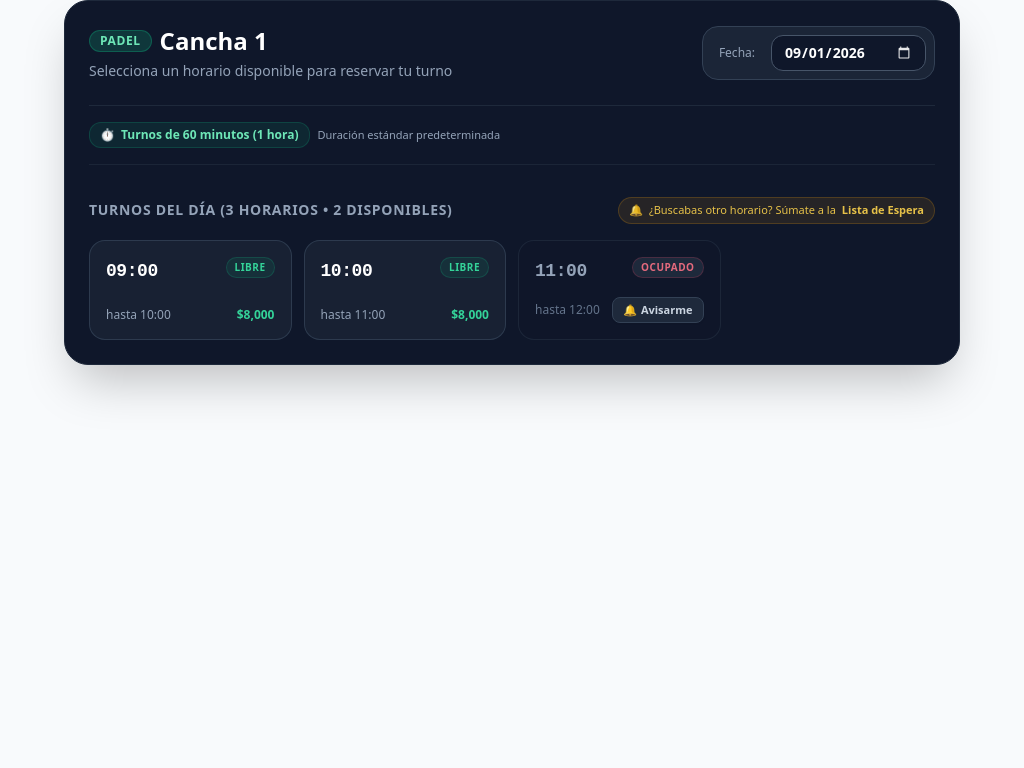
Componente Reactivo GrillaHoraria › simula selección y bloqueo exitoso de turno con inicio del contador de 10 minutos
Click the button with aria-label "Turno 09:00 a 10:00 Disponible".
click(190, 290)  # box 89,240 -> 292,340
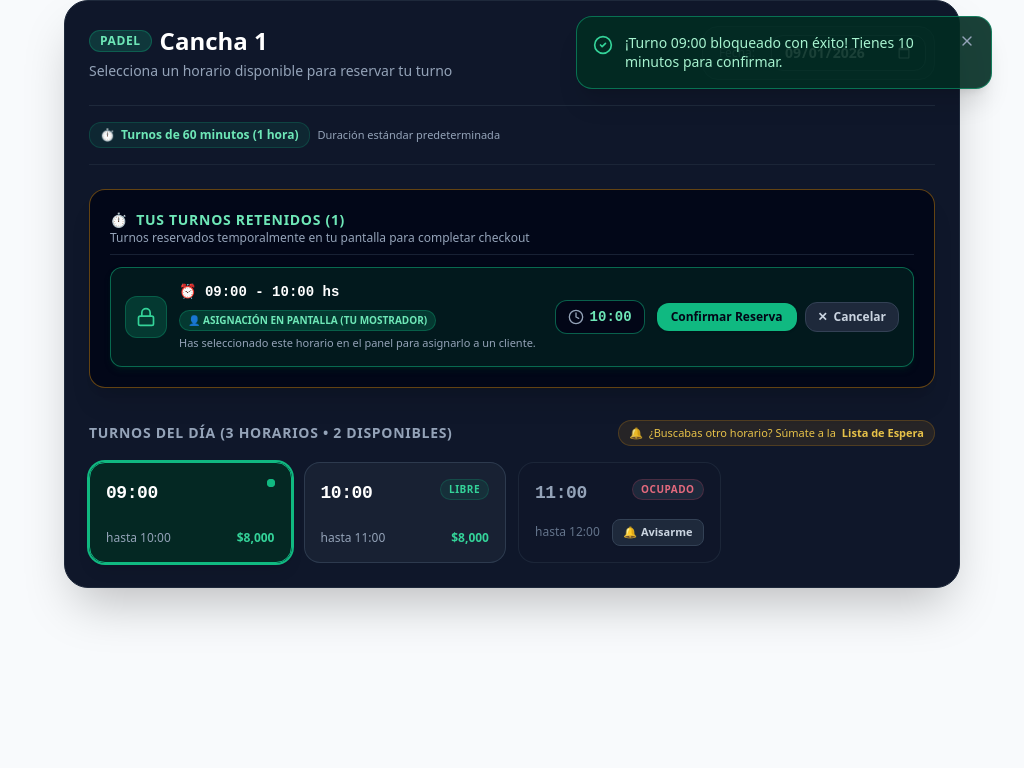
Expected: the element with test id "active-lock-banner" is shown, 89,189 -> 935,388
Expected: the text with test id "countdown-timer" reads "10:00", 590,309 -> 632,325
Expected: the message "¡Turno 09:00 bloqueado con éxito! Tienes 10 minutos para confirmar." is shown, 576,16 -> 992,88
